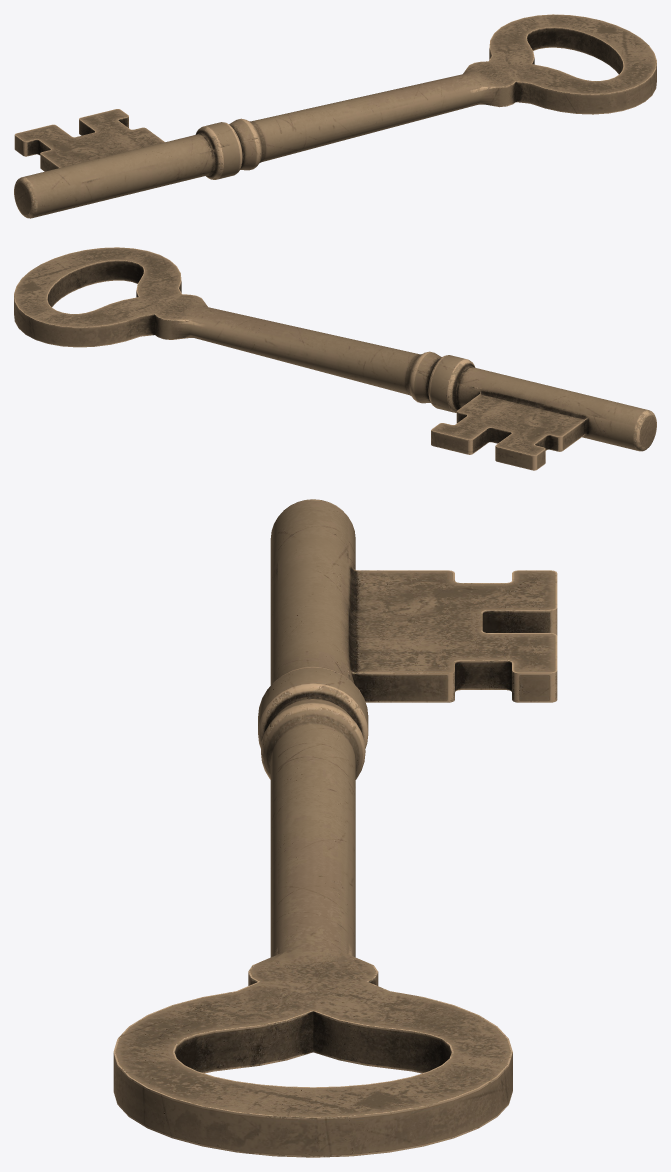
File: chave.fbx
3 views of the same model, one above another, from view 1: azimuth 30°, elevation 25°; view 2: azimuth 150°, elevation 25°; view 3: azimuth 270°, elevation 25° (orthographic). The views are drawn at different scales.
Visible parts, largest first — view 1: Antique Skeleton Key - Detailed 3D Model; view 2: Antique Skeleton Key - Detailed 3D Model; view 3: Antique Skeleton Key - Detailed 3D Model.
Boxes of the visible parts, x1,y1,x2,y2 form: Antique Skeleton Key - Detailed 3D Model: [14, 14, 656, 218]; Antique Skeleton Key - Detailed 3D Model: [14, 247, 656, 470]; Antique Skeleton Key - Detailed 3D Model: [113, 499, 557, 1157].
Bounding box in the file's own units: 472 × 36.54 × 147.
Materials: 1 (1 with a texture image).
